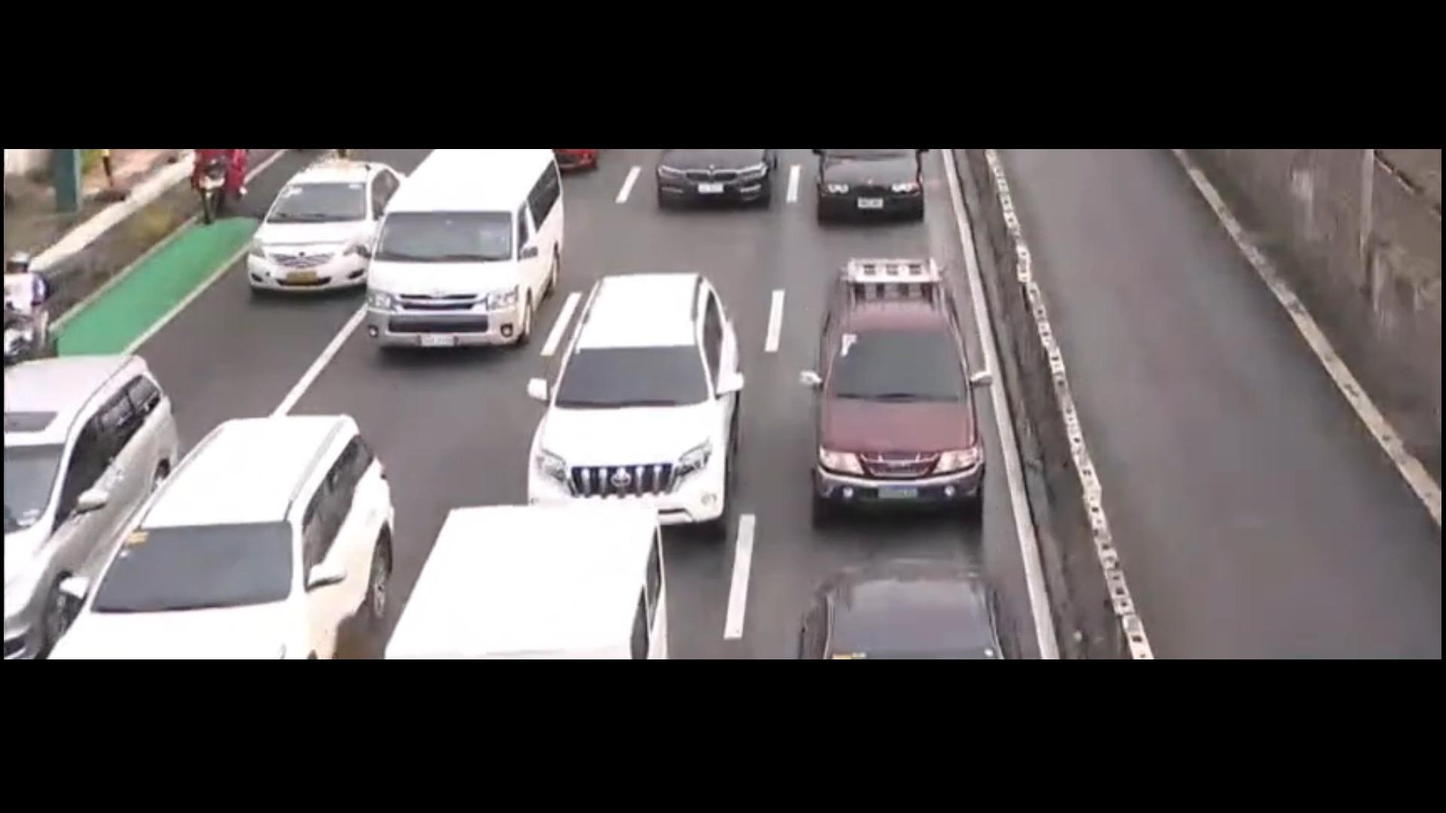Motorcycle: (0, 252, 55, 371)
Multicab: (377, 502, 674, 662)
SUV: (45, 416, 388, 657), (520, 273, 740, 529), (0, 358, 171, 632), (810, 260, 988, 519), (798, 557, 1022, 662)
Sedan: (250, 151, 390, 301)
Van: (362, 145, 561, 352)
